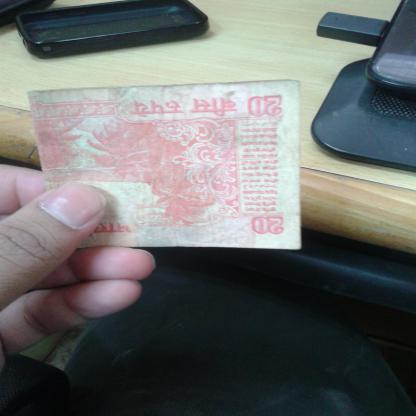Old20Back: (28, 92, 298, 248)
